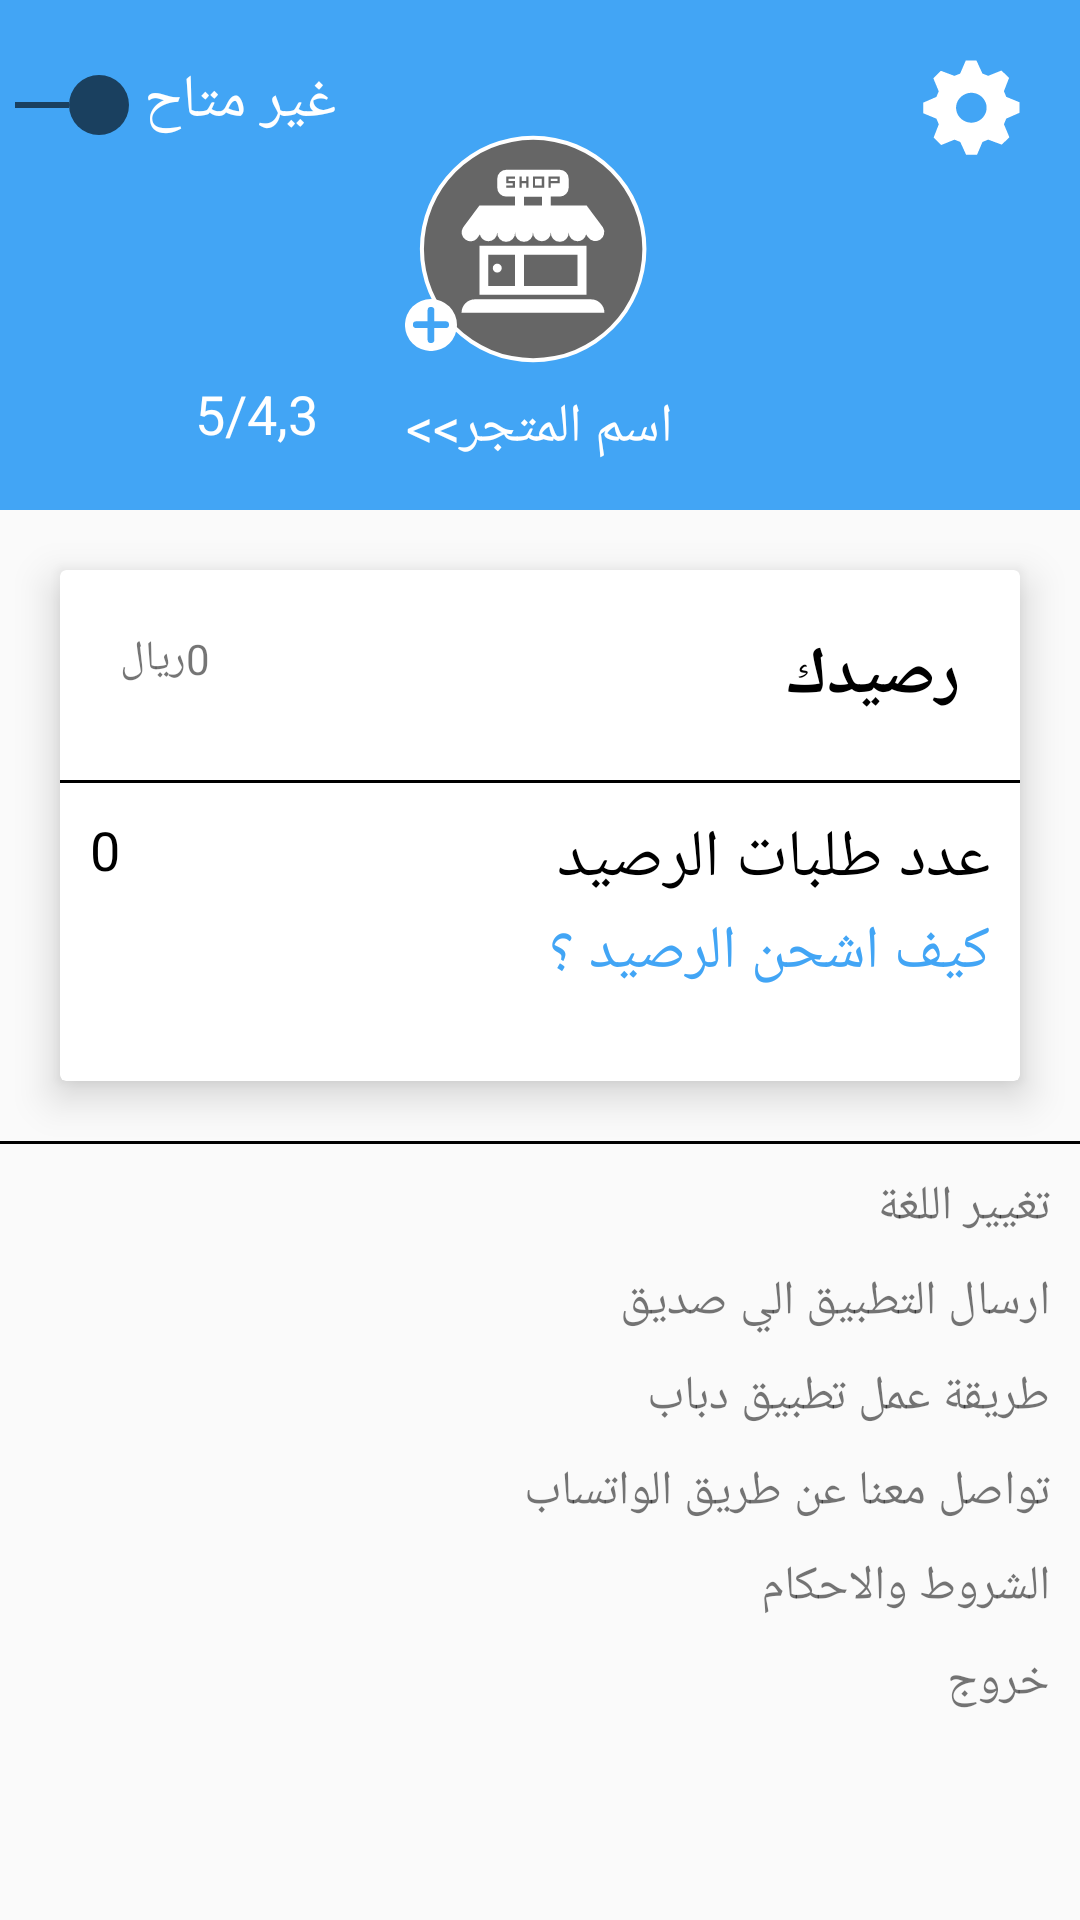

Icons on this 1080 x 1920 Android screen, each with its box as (x1, y1, x2, y2):
blueswitch: (15, 75, 129, 135)
